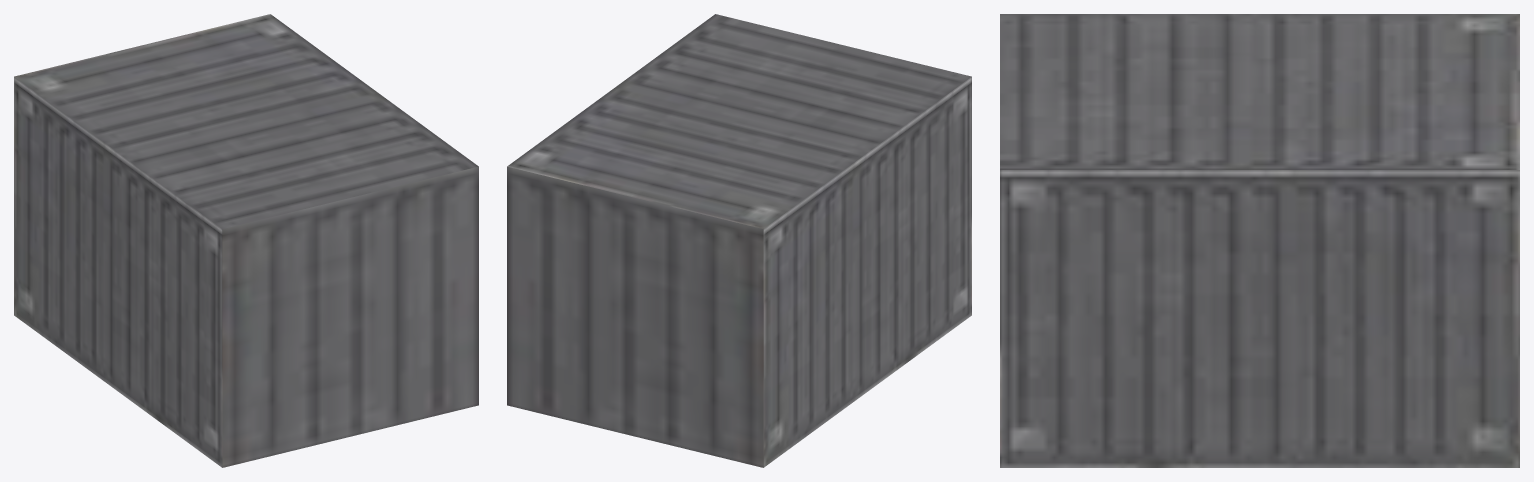
The model's file is kenney-retro-urban-truck-grey-cargo.glb.
3 renders of one model, left to right at view 1: azimuth 30°, elevation 25°; view 2: azimuth 150°, elevation 25°; view 3: azimuth 270°, elevation 25°, orthographic. The views are drawn at different scales.
Parts seen in each view (by area): view 1: truck-grey-cargo; view 2: truck-grey-cargo; view 3: truck-grey-cargo.
Boxes of the visible parts, left/top/right/bottom form: truck-grey-cargo: left=14, top=14, right=478, bottom=467; truck-grey-cargo: left=507, top=14, right=971, bottom=467; truck-grey-cargo: left=1000, top=14, right=1519, bottom=467.
Size of the model in its own units: 0.8301 by 0.7384 by 1.17.
1 material, 1 textured.
